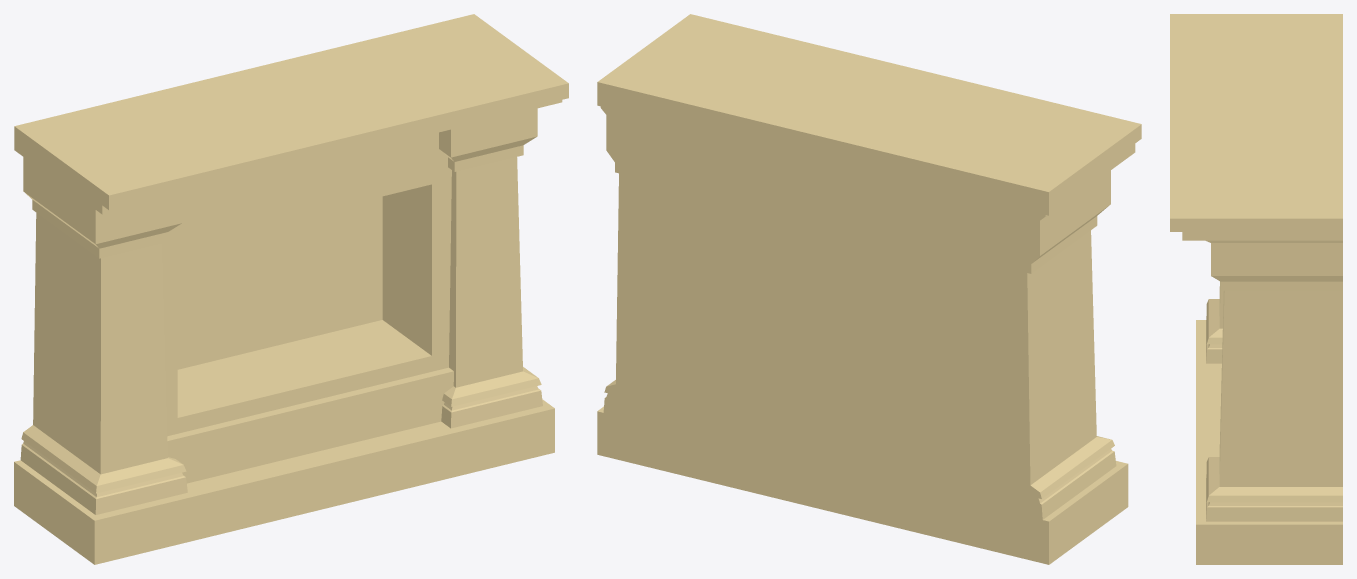
The model's file is Fireplace.glb.
The picture shows the model from 3 angles, left to right: view 1: azimuth 30°, elevation 25°; view 2: azimuth 150°, elevation 25°; view 3: azimuth 270°, elevation 25°; orthographic projection. The views are drawn at different scales.
Visible parts, largest first — view 1: Fireplace; view 2: Fireplace; view 3: Fireplace.
Part boxes in pixels (bbox=[...]): Fireplace: bbox=[14, 14, 568, 564]; Fireplace: bbox=[597, 14, 1141, 564]; Fireplace: bbox=[1170, 14, 1342, 564].
Bounding box in the file's own units: 325 × 256 × 116.
